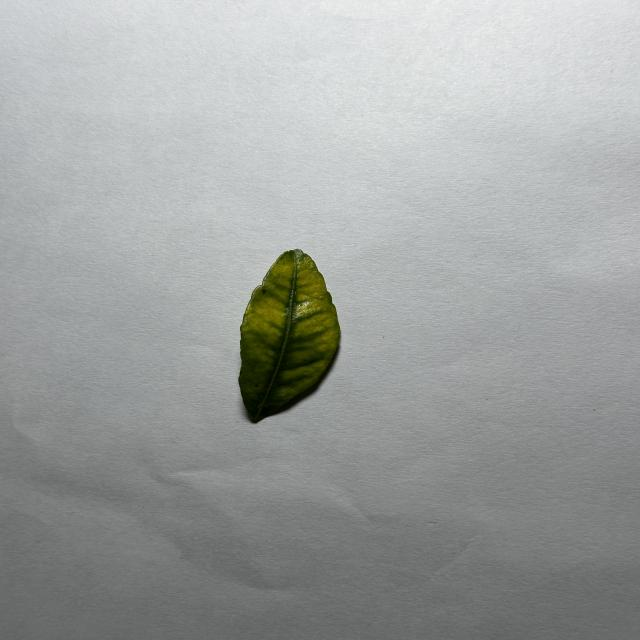greening: (239, 249, 340, 421)
